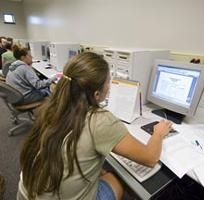person without safety: (41, 51, 143, 172), (10, 45, 42, 89), (1, 37, 8, 49)
